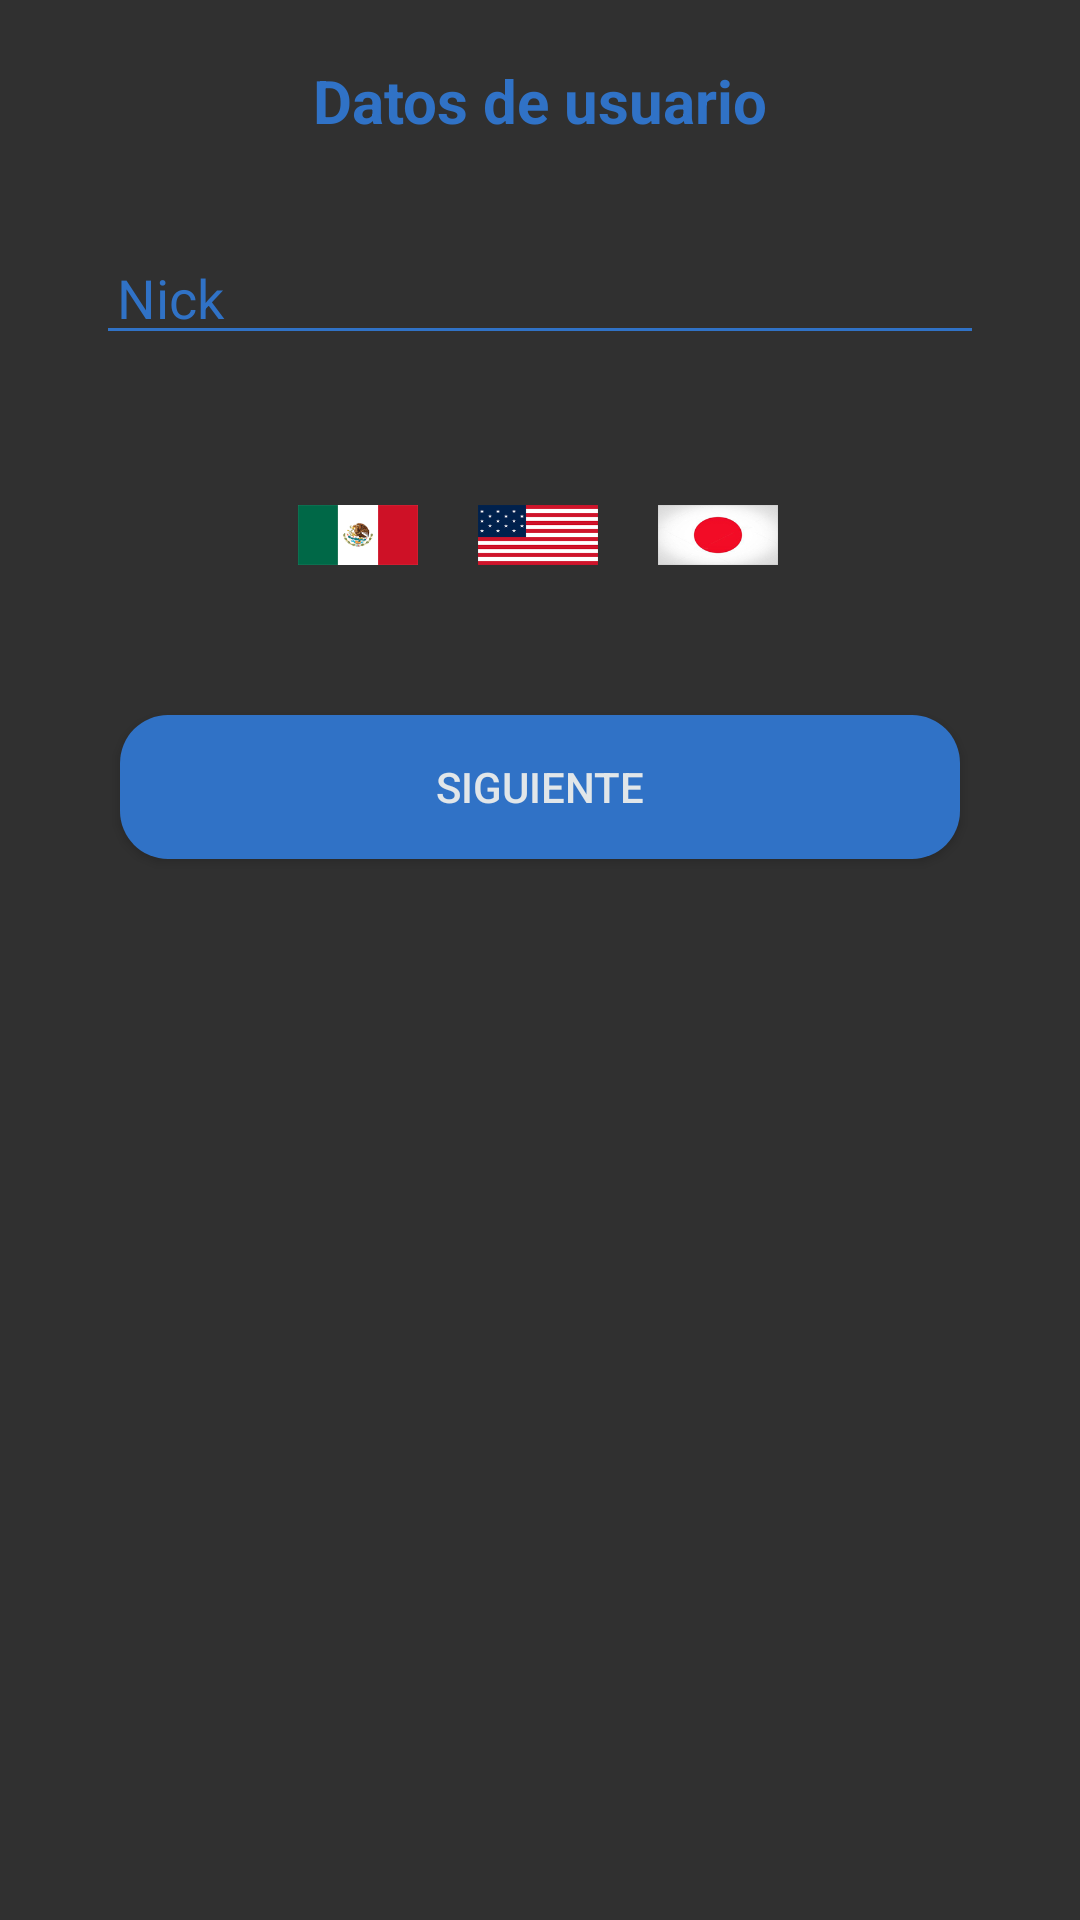

Icons on this 1080×1920 Android screen, each with its box as [x1=x1, y1=y1, x2=x2, y2=y2]:
ingles: [x1=478, y1=505, x2=598, y2=565]
japones: [x1=658, y1=505, x2=778, y2=565]
mexico: [x1=298, y1=505, x2=418, y2=565]
